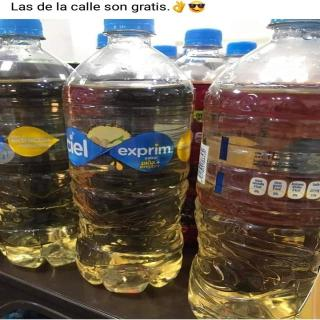Plastic-bottle: (58, 19, 201, 297), (190, 15, 320, 320), (1, 17, 97, 271), (170, 30, 244, 101)
